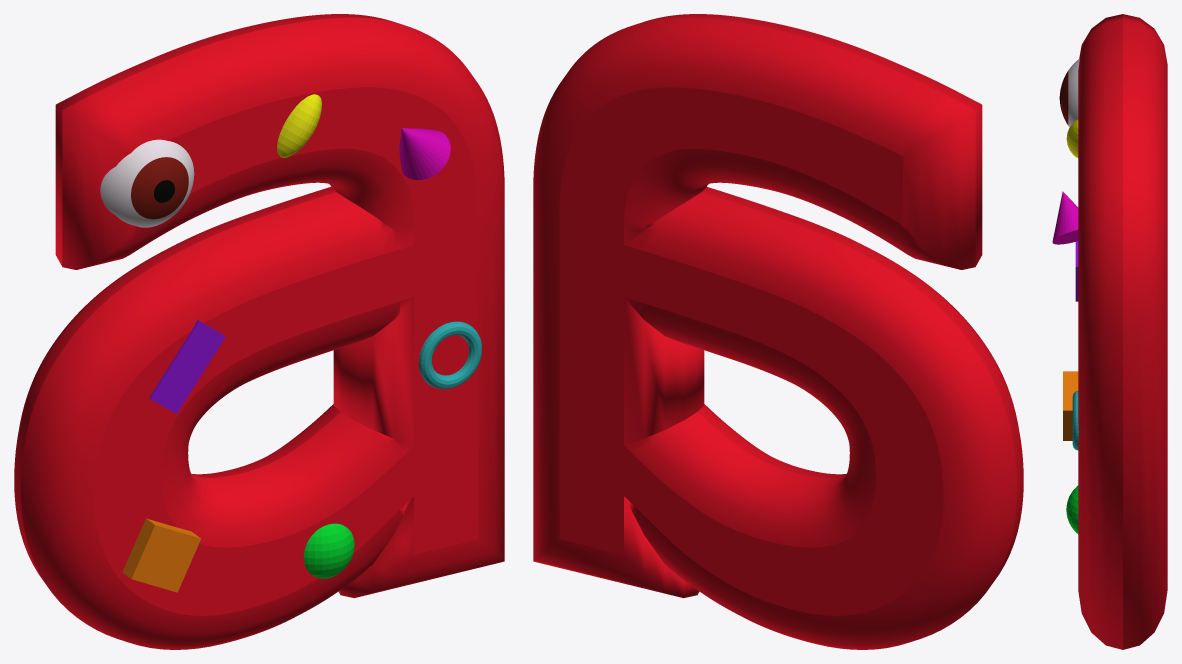
File: a_red.fbx
3 renders of one model, left to right at view 1: azimuth 30°, elevation 25°; view 2: azimuth 150°, elevation 25°; view 3: azimuth 270°, elevation 25°, orthographic. The views are drawn at different scales.
Parts seen in each view (by area): view 1: Text, Sphere, Cube, Cube.001, Cone, Torus, Sphere.001, Sphere.002; view 2: Text; view 3: Text, Cone, Sphere, Cube, Sphere.001, Torus, Sphere.002, Cube.001.
Part boxes in pixels (box(x1,y1,x2,y2)): Text: box(14, 14, 504, 649); Sphere: box(100, 139, 194, 227); Cube: box(122, 518, 200, 592); Cube.001: box(149, 320, 225, 413); Cone: box(399, 128, 450, 179); Torus: box(418, 321, 481, 388); Sphere.001: box(303, 523, 354, 578); Sphere.002: box(277, 94, 321, 157); Text: box(533, 14, 1023, 649); Text: box(1078, 14, 1167, 649); Cone: box(1052, 191, 1078, 244); Sphere: box(1059, 59, 1079, 127); Cube: box(1063, 371, 1078, 440); Sphere.001: box(1066, 485, 1078, 533); Torus: box(1072, 391, 1078, 450); Sphere.002: box(1066, 119, 1078, 157); Cube.001: box(1075, 241, 1078, 301).
Bounding box in the file's own units: 101 × 121 × 25.46.
